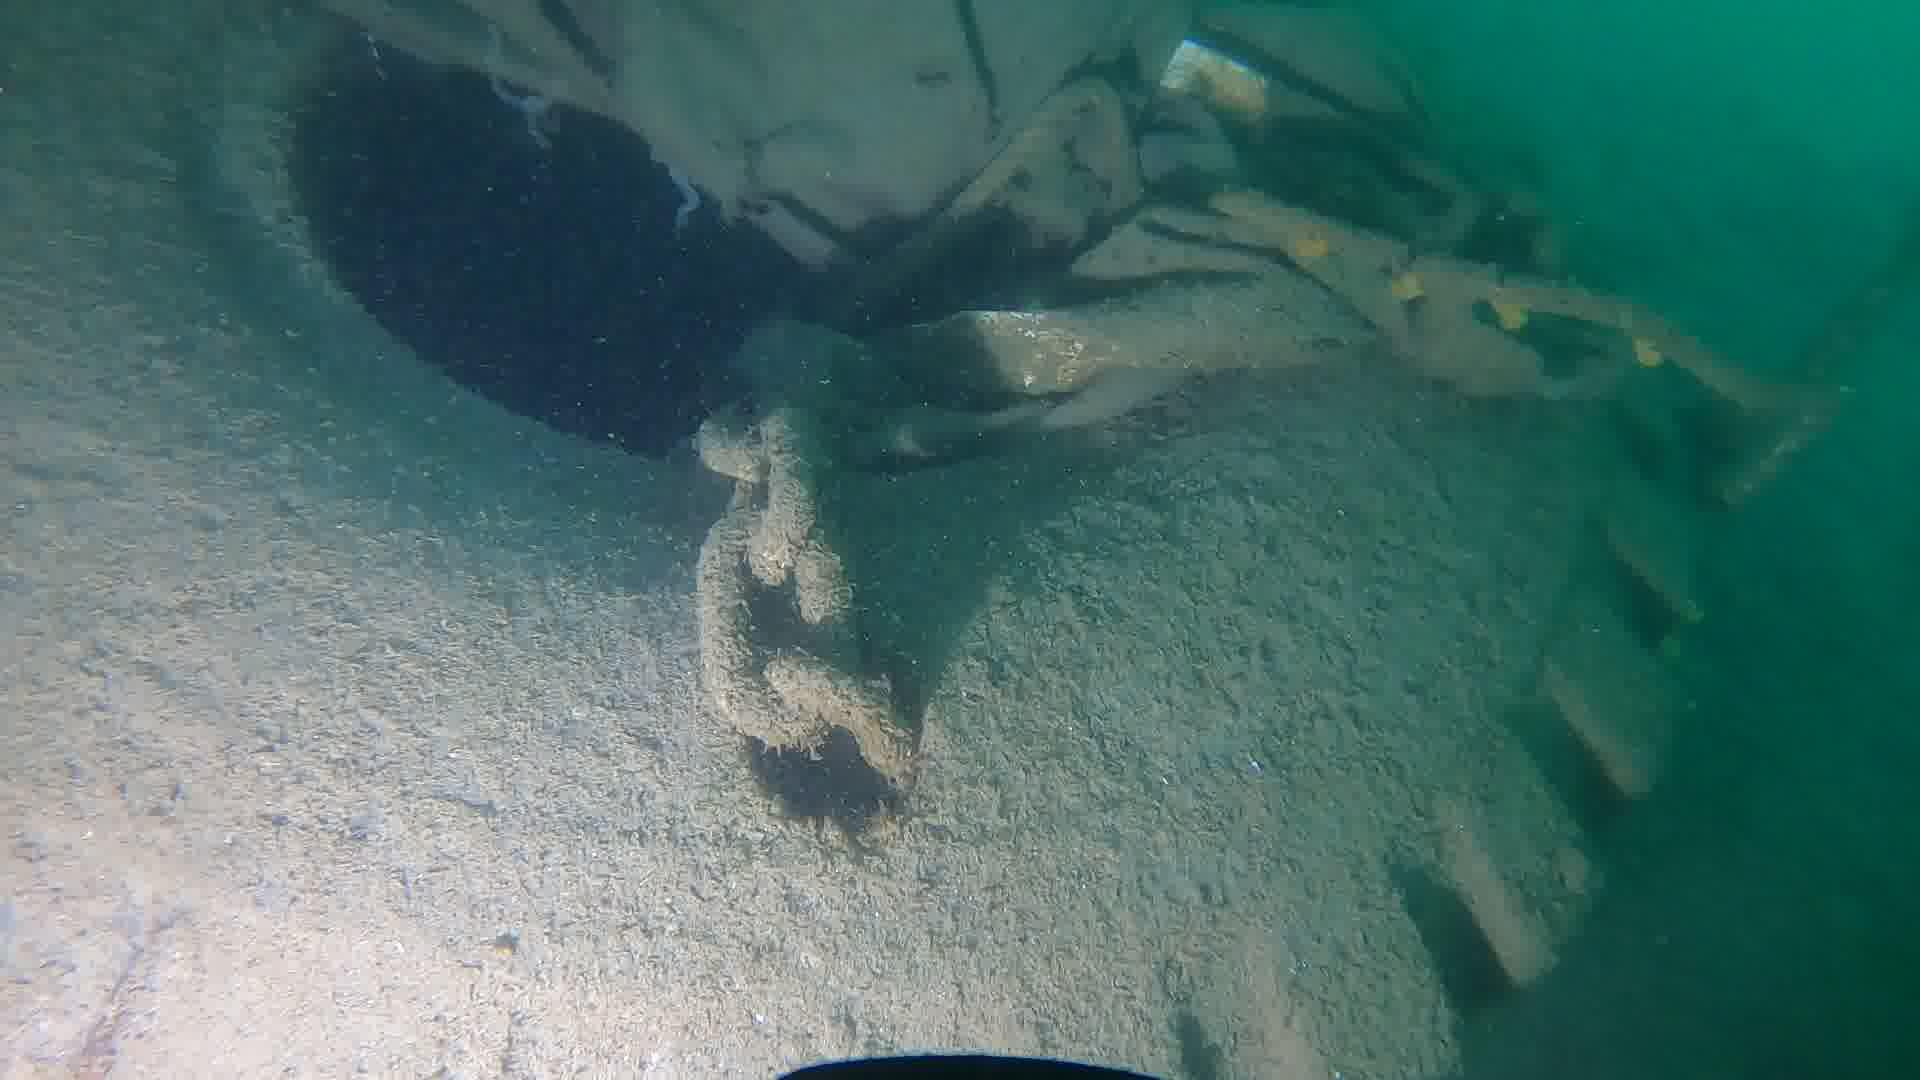tire: (0, 18, 1712, 1080)
